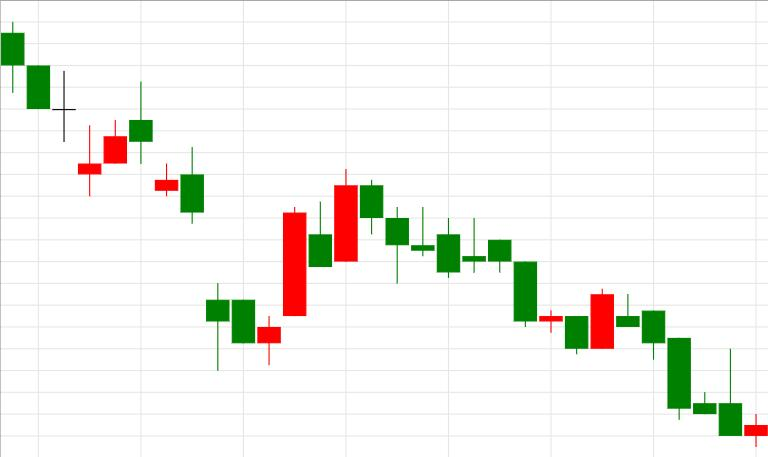inverse_hammer_rise: (591, 288, 742, 435)
